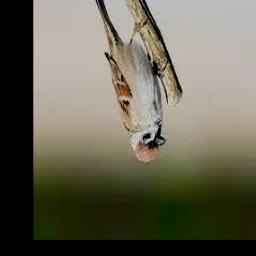Sparrow: (94, 0, 165, 164)
